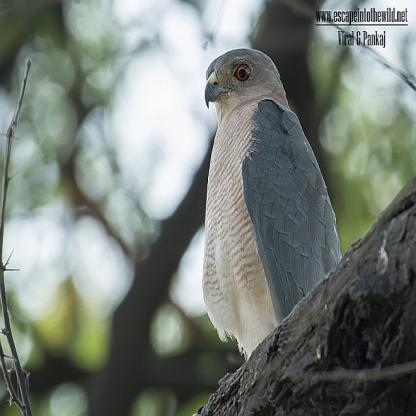Burung: (202, 47, 341, 361)
